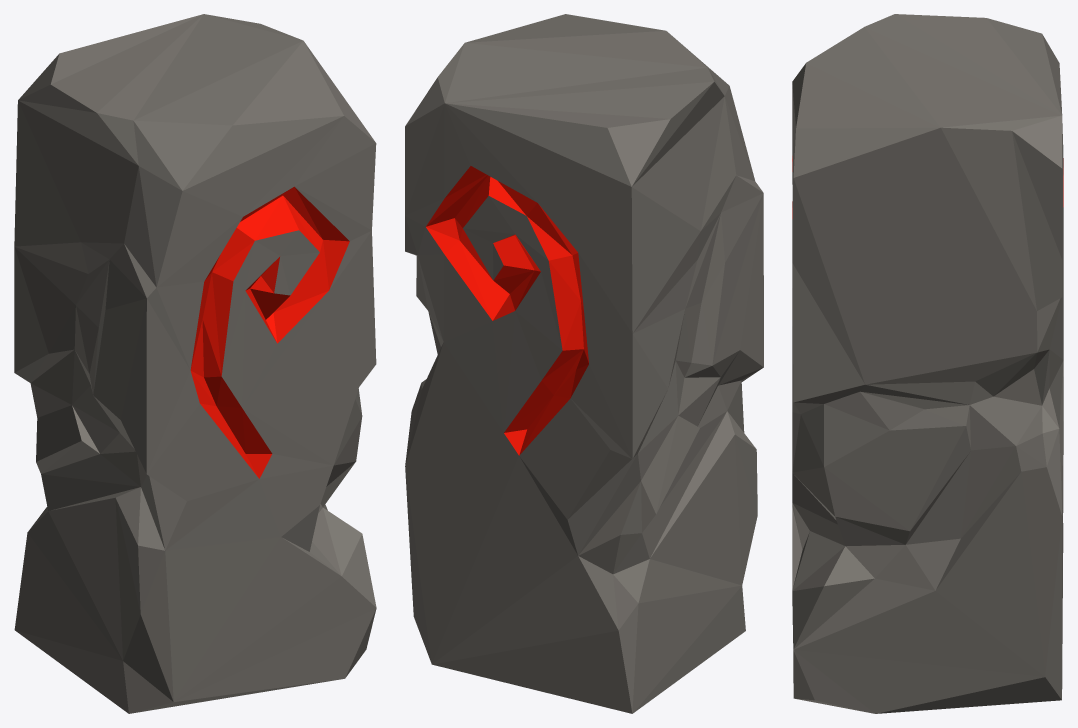
File: SM_Env_Rune_Pillar_01.fbx
The picture shows the model from 3 angles, left to right: view 1: azimuth 30°, elevation 25°; view 2: azimuth 150°, elevation 25°; view 3: azimuth 270°, elevation 25°; orthographic projection. The views are drawn at different scales.
Visible parts, largest first — view 1: SM_Env_Rune_Pillar_01; view 2: SM_Env_Rune_Pillar_01; view 3: SM_Env_Rune_Pillar_01.
Boxes of the visible parts, bbox=[...] form: SM_Env_Rune_Pillar_01: bbox=[14, 14, 376, 713]; SM_Env_Rune_Pillar_01: bbox=[405, 14, 763, 713]; SM_Env_Rune_Pillar_01: bbox=[792, 14, 1063, 713].
Size of the model in its own units: 1 by 2.38 by 1.
